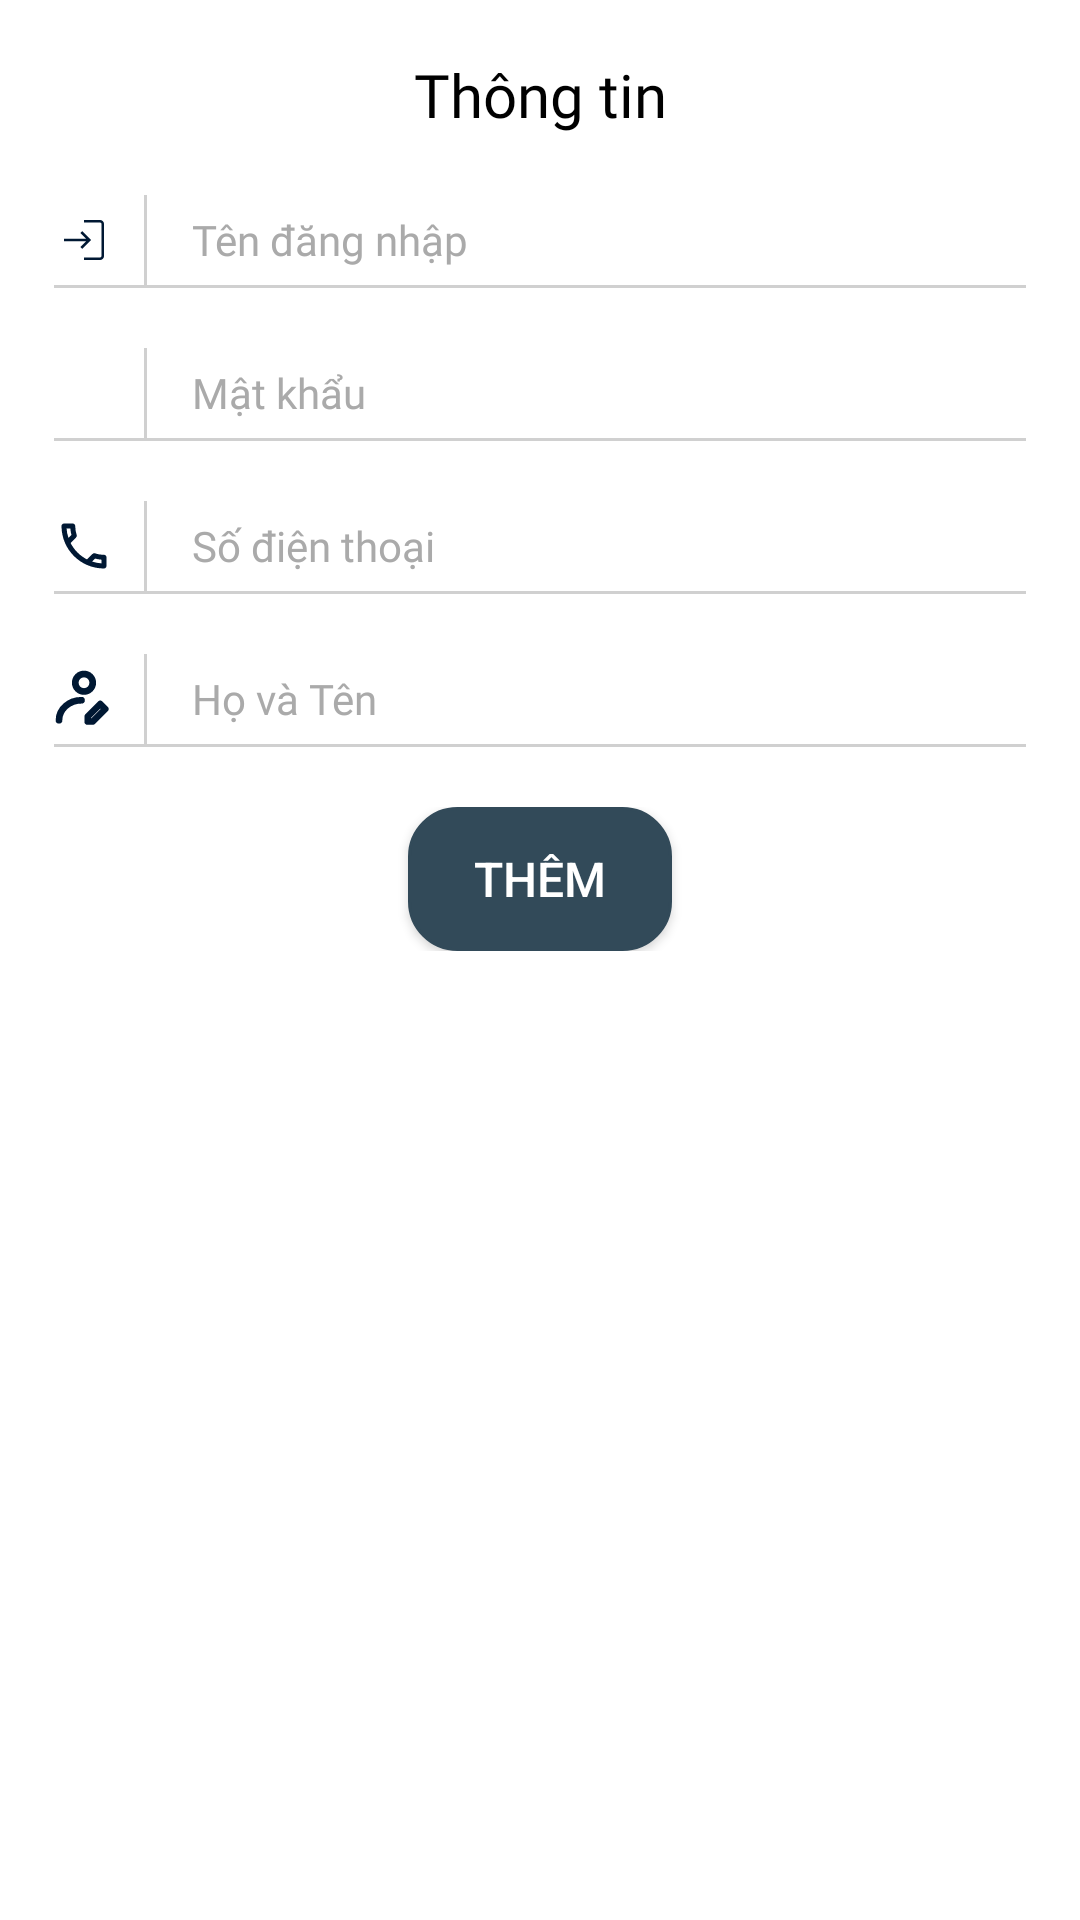

Locate icon controls on the screen. Image size 1080w x 1920h, boxes as (x1, y1, x2, y2).
employee name: (55, 670, 109, 725)
employee phone: (61, 523, 107, 569)
